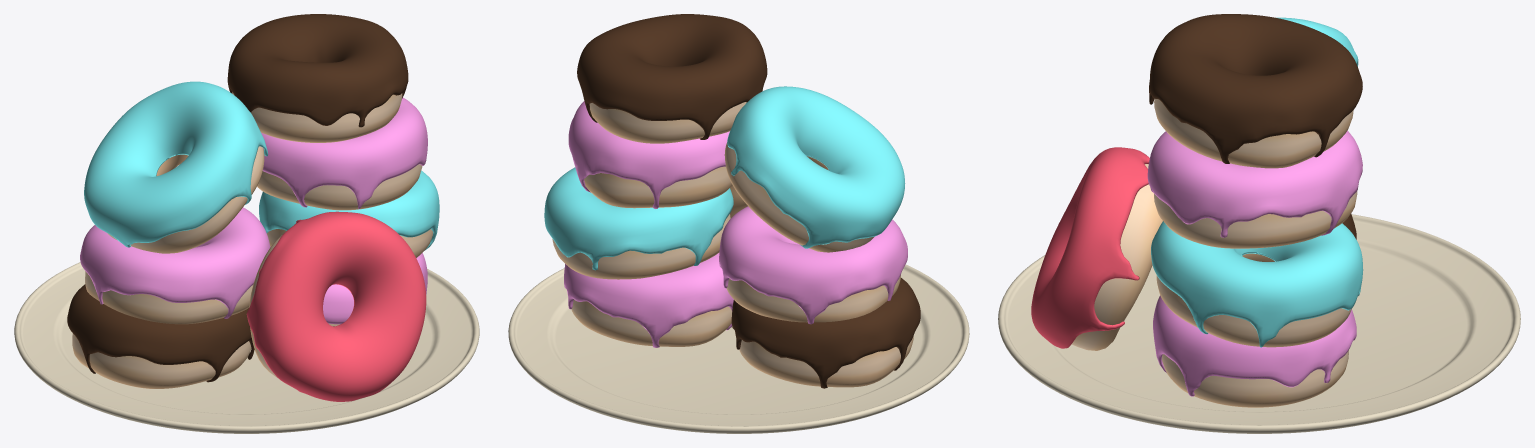
3 renders of one model, left to right at view 1: azimuth 30°, elevation 25°; view 2: azimuth 150°, elevation 25°; view 3: azimuth 270°, elevation 25°, orthographic. The views are drawn at different scales.
Visible parts, largest first — view 1: plate, icing.007, icing.006, icing.004, icing.005, icing.003, icing, icing.002, donut, donut.005, donut.006, donut.004 (+3 smaller); view 2: plate, icing.006, icing.004, icing.005, icing.002, icing, icing.001, icing.003, donut, donut.004, donut.001, donut.003 (+3 smaller); view 3: plate, icing.004, icing.002, icing.007, icing.003, icing.001, donut.008, donut.004, donut.005, donut.001, donut.003, icing.006.
Boxes of the visible parts, x1,y1,x2,y2 form: plate: [14, 262, 479, 433]; icing.007: [246, 211, 426, 401]; icing.006: [84, 81, 268, 247]; icing.004: [227, 14, 408, 127]; icing.005: [80, 207, 270, 318]; icing.003: [261, 97, 427, 209]; icing: [67, 284, 254, 382]; icing.002: [259, 170, 439, 250]; donut: [72, 333, 251, 388]; donut.005: [232, 92, 402, 142]; donut.006: [85, 271, 252, 324]; donut.004: [257, 164, 422, 210]; plate: [508, 264, 969, 433]; icing.006: [727, 86, 905, 248]; icing.004: [577, 14, 767, 139]; icing.005: [719, 206, 907, 324]; icing.002: [544, 167, 733, 270]; icing: [731, 278, 920, 388]; icing.001: [564, 253, 733, 347]; icing.003: [568, 101, 729, 208]; donut: [739, 336, 913, 387]; donut.004: [584, 166, 732, 208]; donut.001: [571, 299, 731, 346]; donut.003: [552, 214, 730, 279]; plate: [998, 214, 1520, 433]; icing.004: [1149, 14, 1362, 163]; icing.002: [1151, 221, 1363, 347]; icing.007: [1031, 147, 1149, 348]; icing.003: [1147, 130, 1362, 237]; icing.001: [1153, 295, 1356, 396]; donut.008: [1071, 164, 1162, 350]; donut.004: [1154, 191, 1357, 248]; donut.005: [1154, 98, 1353, 168]; donut.001: [1162, 350, 1348, 407]; donut.003: [1156, 253, 1351, 347]; icing.006: [1276, 17, 1358, 66].
Bounding box in the file's own units: 0.2989 × 0.2056 × 0.2989.
Materials: 6 (1 with a texture image).
